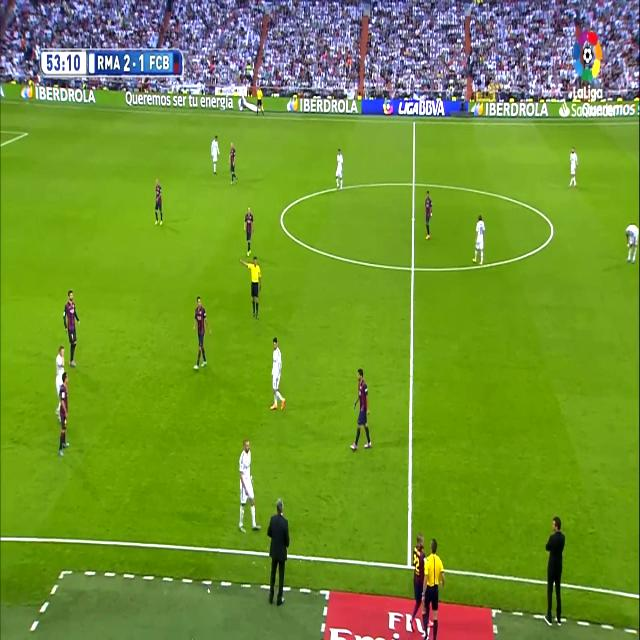halfcircle_bottom: (407, 255, 418, 280)
halfcircle_top: (409, 172, 419, 194)
midline_bottom_intersection: (403, 550, 417, 576)
midline_top_intersection: (410, 115, 418, 129)
